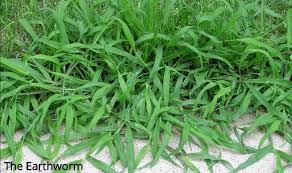crabgrass: (9, 42, 288, 156)
